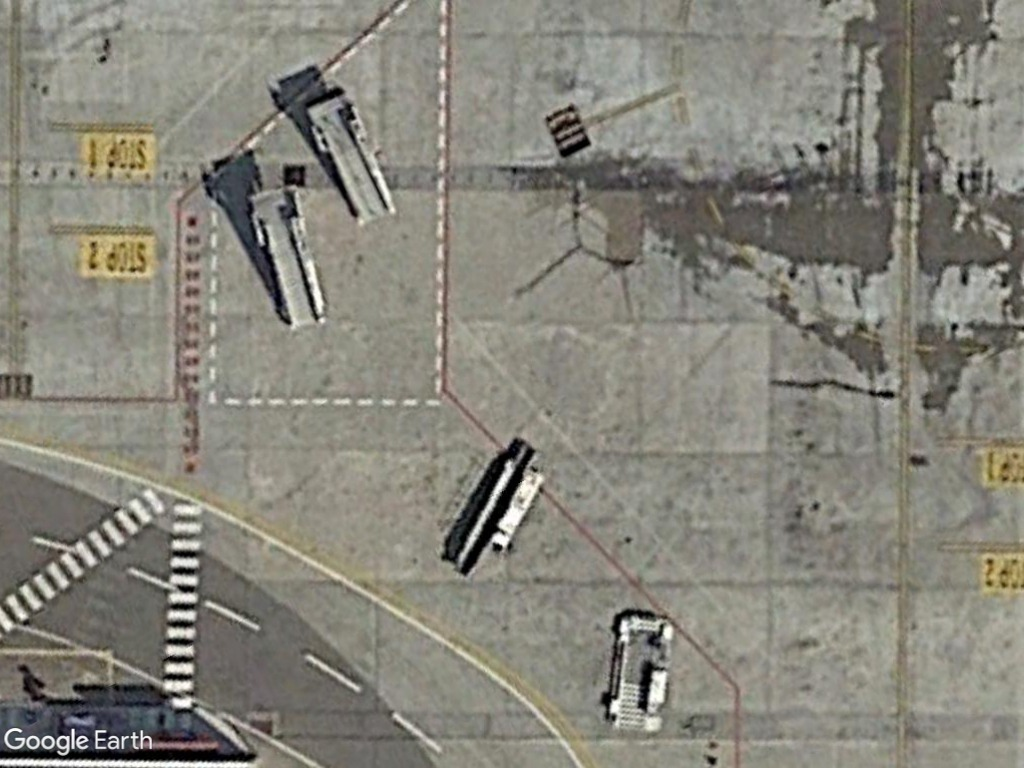other: (449, 438, 554, 582)
pushbacktruck: (604, 605, 676, 736)
stairtruck: (299, 92, 400, 222), (242, 185, 330, 328)
